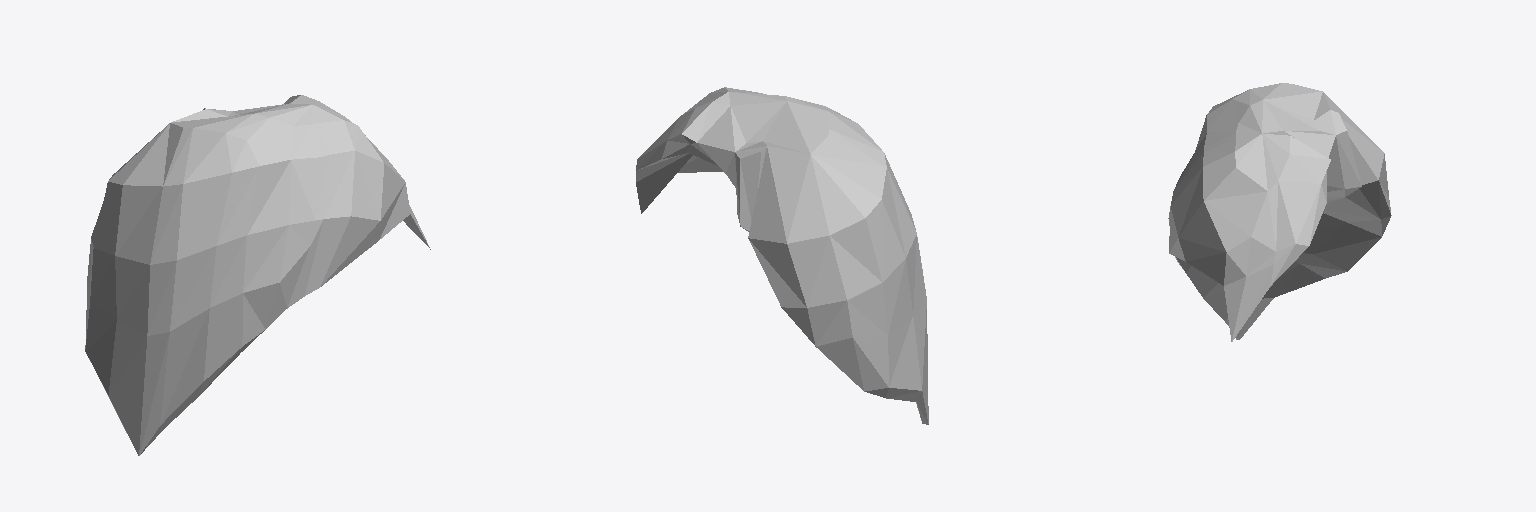
Rendered from foie_GF_avec_pointb2.obj.
3 views of the same model, side by side, from view 1: azimuth 30°, elevation 25°; view 2: azimuth 150°, elevation 25°; view 3: azimuth 270°, elevation 25° (orthographic).
Visible parts, largest first — view 1: 1_Visual; view 2: 1_Visual; view 3: 1_Visual.
Part boxes in pixels (x1,y1,x2,y2): 1_Visual: (85,95,430,455); 1_Visual: (636,87,928,424); 1_Visual: (1168,83,1391,341).
Size of the model in its own units: 6.74 by 6.46 by 4.32.